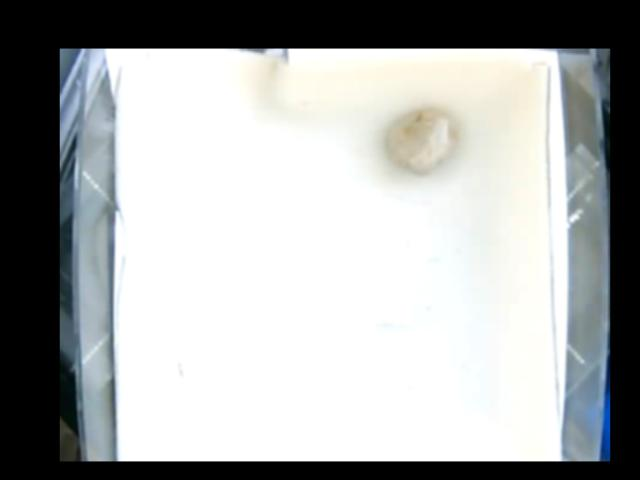Pebble: (386, 107, 453, 178)
